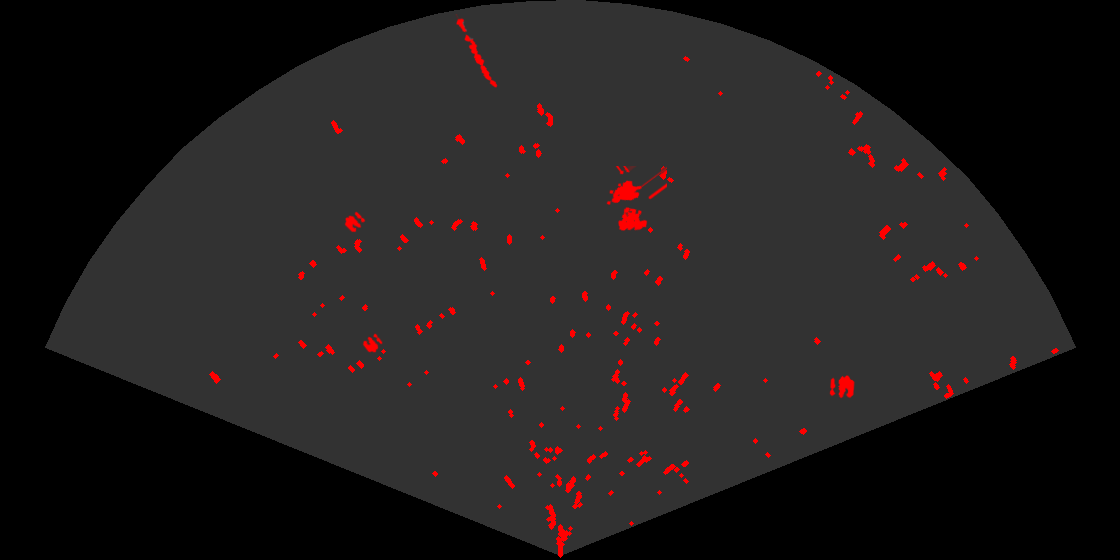ball: (828, 374, 856, 400), (343, 210, 367, 234), (361, 332, 384, 354)
cage: (605, 166, 667, 233)
chain: (454, 14, 499, 89)
